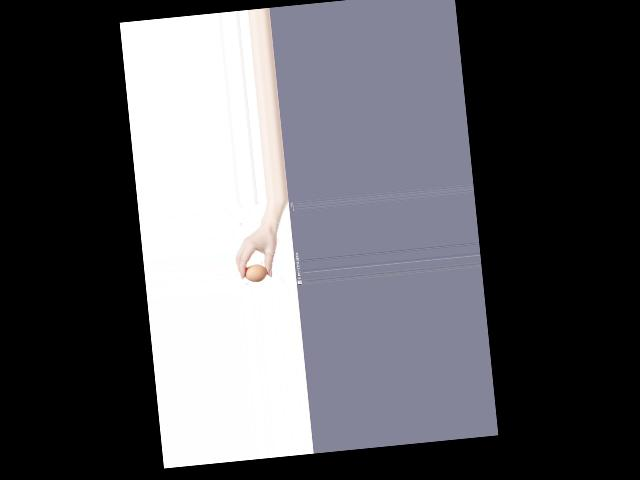egg: (244, 262, 267, 282)
